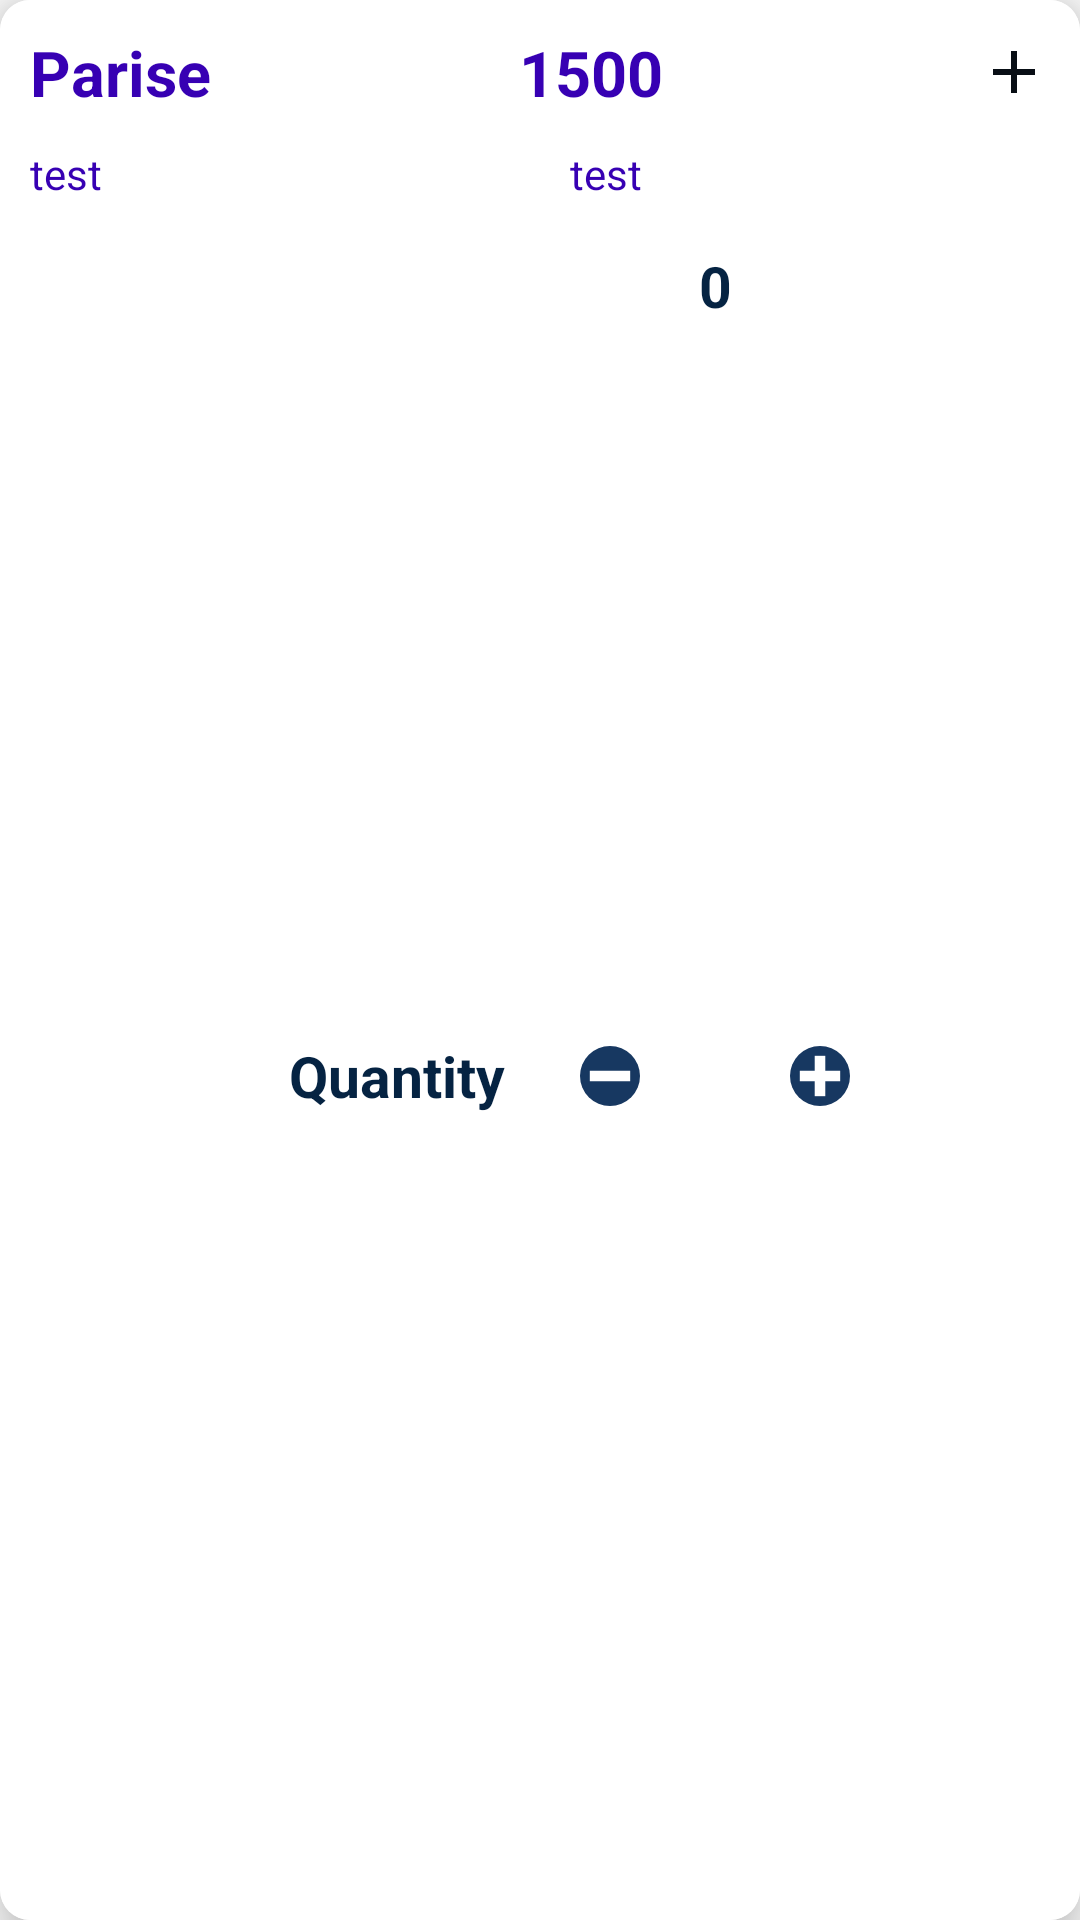

Screen size 1080 × 1920. Icon name, then its center in pixels as (x,y):
add: (1014,72)
plus: (820,1076)
